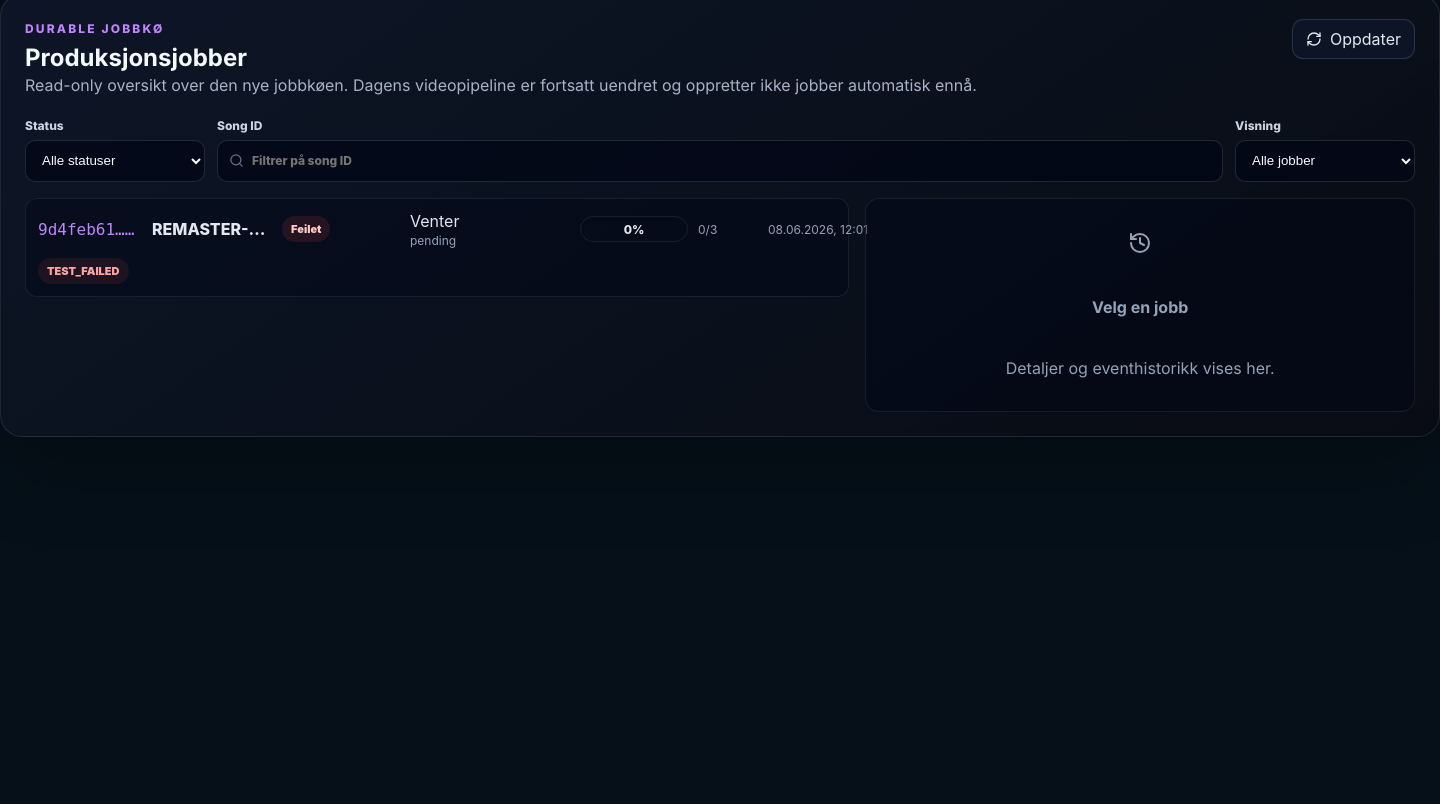
Test: AdminJobs › shows retry only when the job is allowed to retry
This screenshot has width=1440, height=804.
Click the text "REMASTER-SCHEMA-SMOKE-20260608-test".
click(212, 229)  # box top-left (152, 219), bottom-right (272, 239)
(page scrolled)
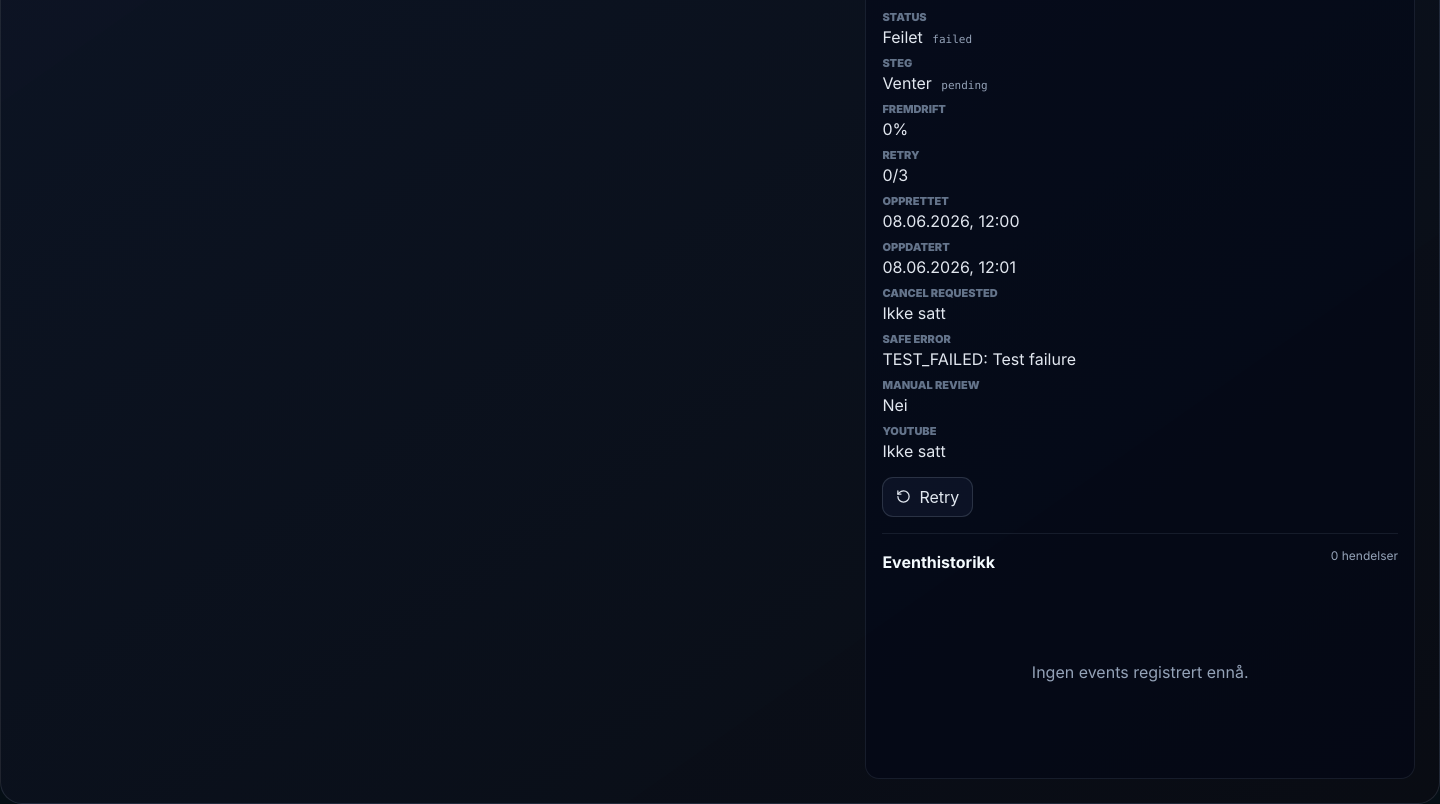
Now the button "Retry" is shown, box top-left (882, 477), bottom-right (973, 517)
